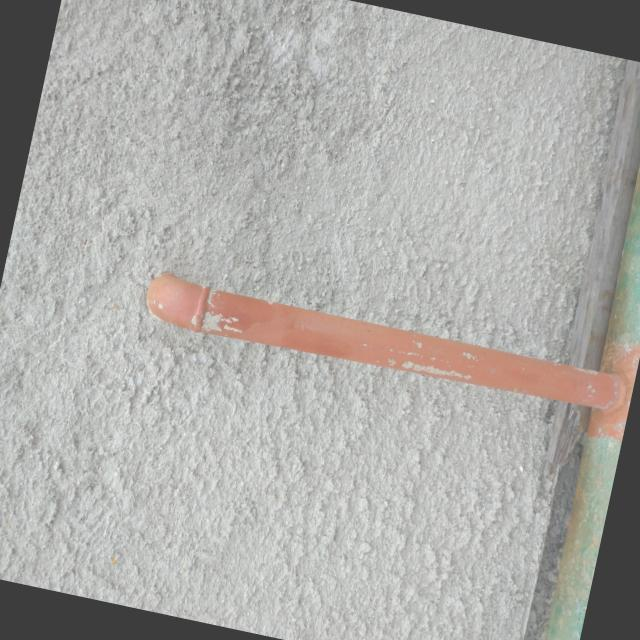gas: (149, 273, 614, 407)
